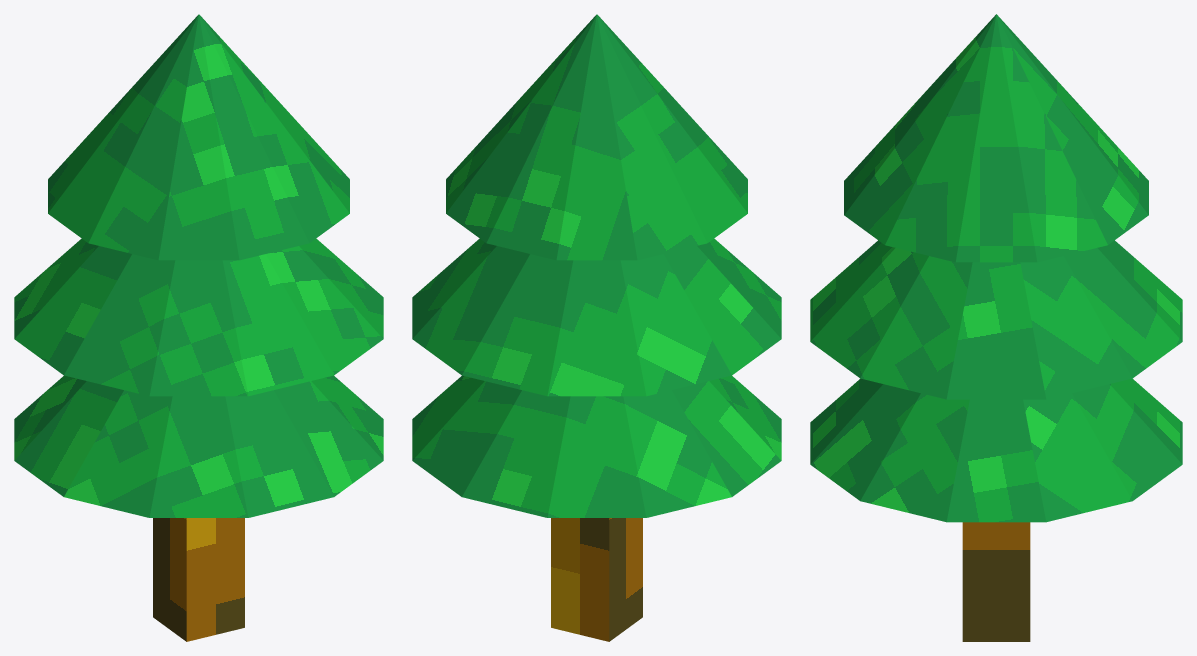
The model's file is tree.gltf.
3 views of the same model, side by side, from view 1: azimuth 30°, elevation 25°; view 2: azimuth 150°, elevation 25°; view 3: azimuth 270°, elevation 25° (orthographic).
Visible parts, largest first — view 1: cone (×3), tron; view 2: cone (×3), tron; view 3: cone (×3), tron.
Part boxes in pixels (<box>): cone (×3): <box>14,14,383,517</box>; tron: <box>153,518,244,641</box>; cone (×3): <box>412,14,781,517</box>; tron: <box>551,518,642,641</box>; cone (×3): <box>810,14,1182,522</box>; tron: <box>962,522,1030,641</box>.
Size of the model in its own units: 0.6875 by 1.25 by 0.6875.
2 materials, 2 textured.
